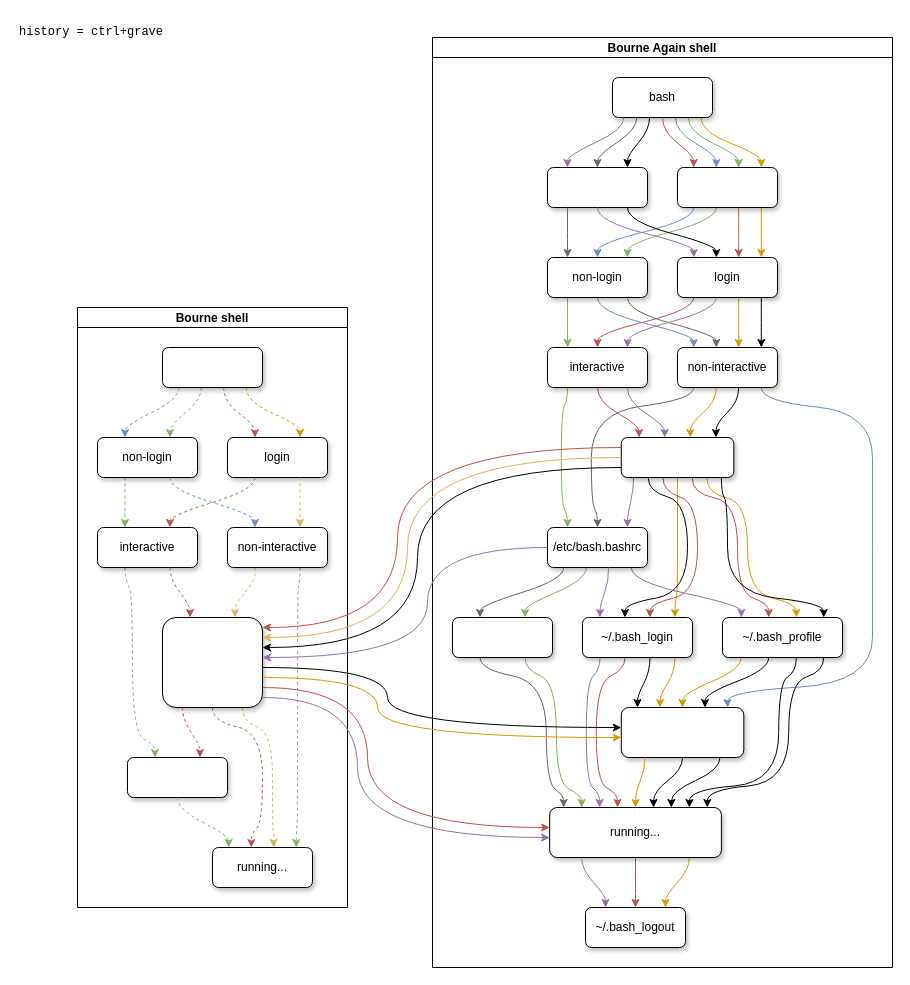
Some shapes in this 910 by 985 pixel diagram are drawn without their labels. Here are the shapes that lost their labels. From the top down, the centre of each, then its label:
At pixel 598 188: "remoote shell (rsh/ssh)".
At pixel 728 188: "normal shell".
At pixel 213 368: "sh".
At pixel 678 458: "/etc/profile".
At pixel 503 638: "~/.bashrc".
At pixel 213 663: "~/.profile".
At pixel 683 733: "$BASH_ENV".
At pixel 178 778: "$ENV".
